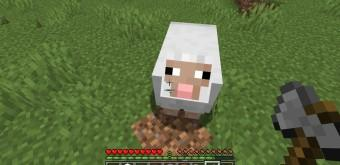sheep: (152, 21, 223, 121)
